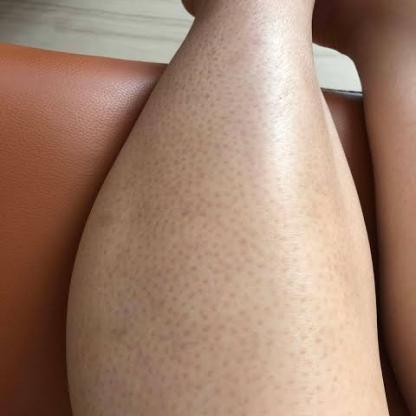Chicken Skin: (64, 9, 373, 415)
